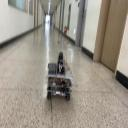cart: (47, 65, 73, 101)
